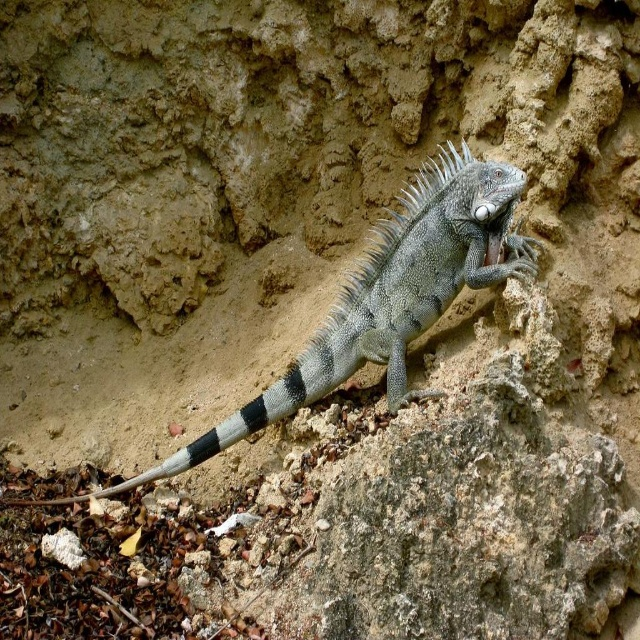Lizard: (9, 137, 538, 505)
